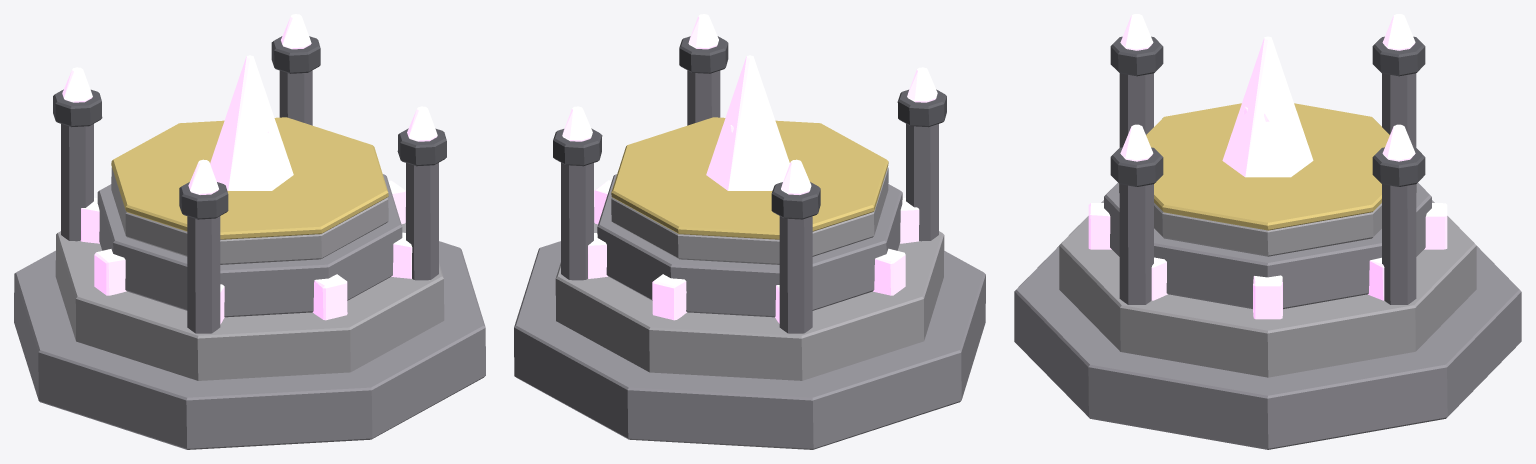
File: dgn_altar_boss.glb
The picture shows the model from 3 angles, left to right: view 1: azimuth 30°, elevation 25°; view 2: azimuth 150°, elevation 25°; view 3: azimuth 270°, elevation 25°; orthographic projection. The views are drawn at different scales.
Visible parts, largest first — view 1: dgn_altar_boss; view 2: dgn_altar_boss; view 3: dgn_altar_boss.
Part boxes in pixels (bbox=[...]): dgn_altar_boss: bbox=[14, 14, 485, 449]; dgn_altar_boss: bbox=[514, 14, 985, 449]; dgn_altar_boss: bbox=[1014, 14, 1521, 449].
Bounding box in the file's own units: 1.7 × 1.13 × 1.7.
